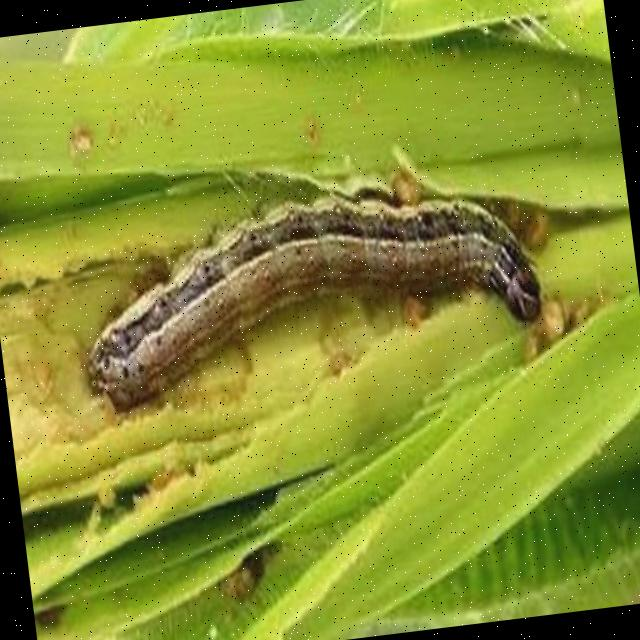worm: (63, 129, 556, 425)
